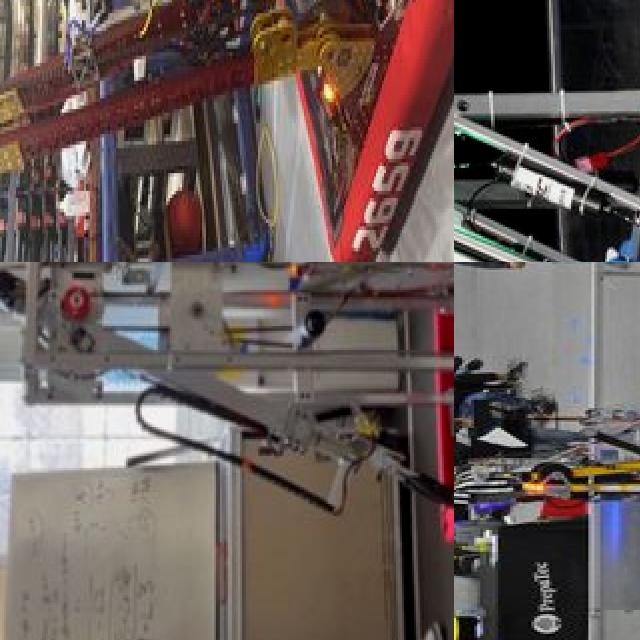FRC-Robots: (0, 262, 454, 573), (0, 0, 454, 262), (454, 0, 640, 262), (454, 382, 640, 480), (566, 401, 640, 531)
